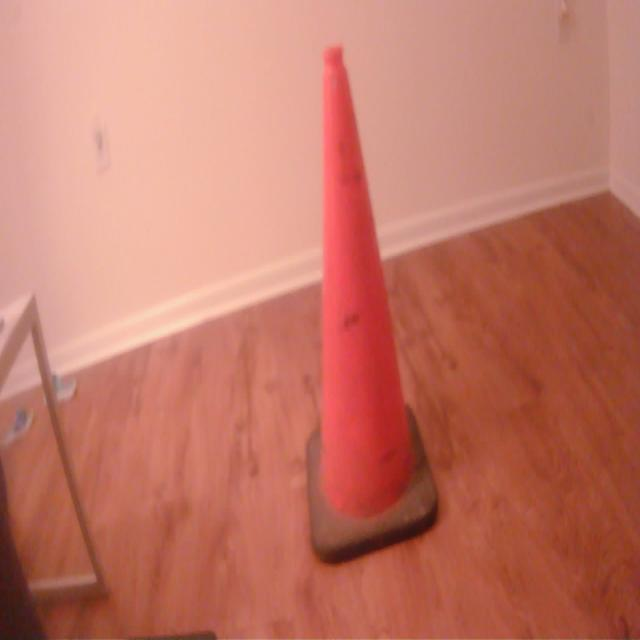traffic cone: (303, 37, 446, 575)
